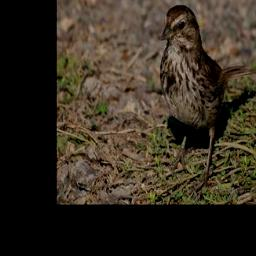Sparrow: (159, 4, 256, 192)
